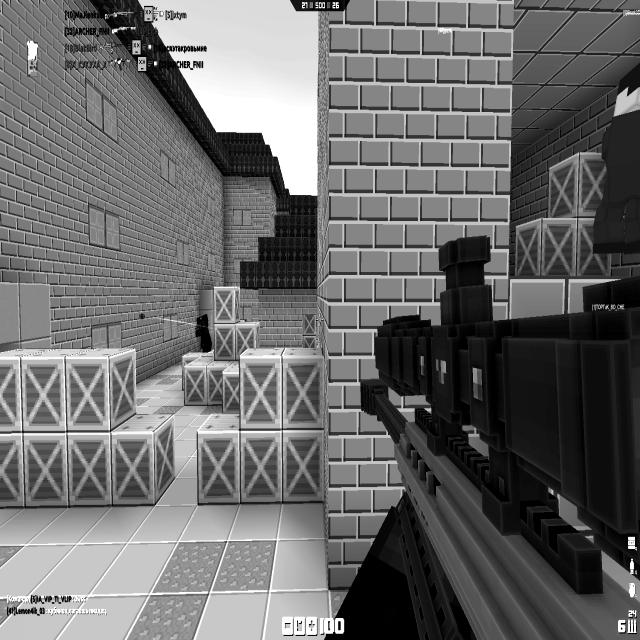Head: (197, 314, 209, 330)
Player: (194, 314, 212, 353)
